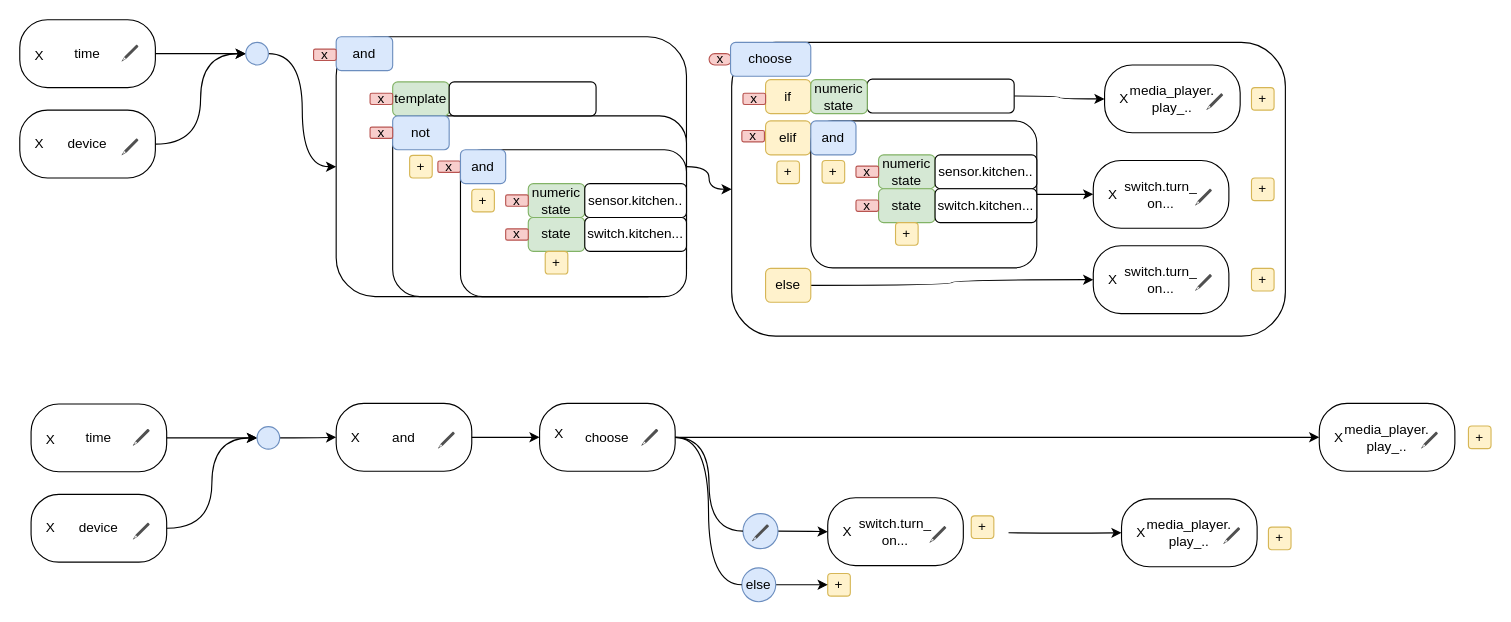
Image size: 1511x622. Some labels were removed from this diagram. Each missing label, with the box of its shape:
sensor.kitchen_hum..: (866, 78, 1014, 113)
states(light.kitchen) ...: (448, 81, 596, 116)
